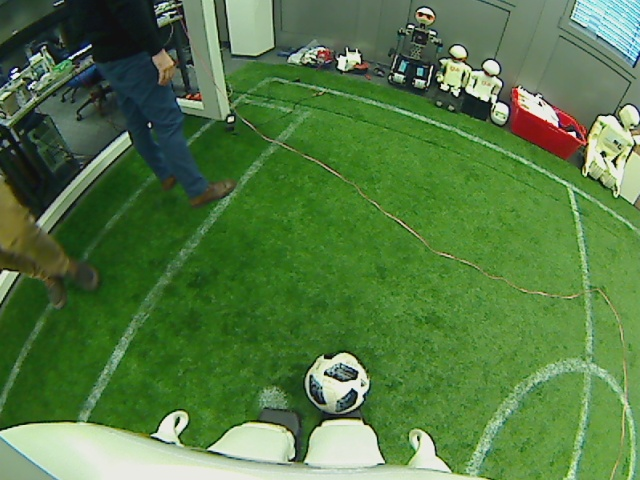ball: (302, 348, 374, 417)
